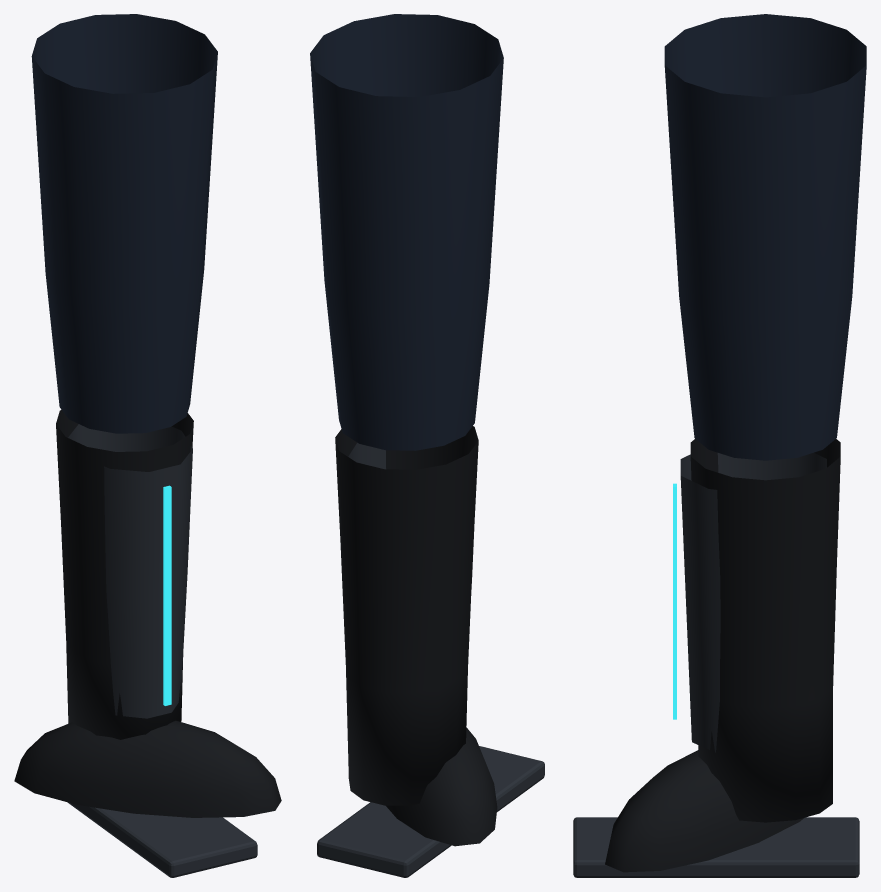
Rendered from fp_leg_neon.glb.
3 views of the same model, side by side, from view 1: azimuth 30°, elevation 25°; view 2: azimuth 150°, elevation 25°; view 3: azimuth 270°, elevation 25° (orthographic). The views are drawn at different scales.
Parts seen in each view (by area): view 1: fp_leg.001; view 2: fp_leg.001; view 3: fp_leg.001.
Boxes of the visible parts, box(x1,y1,x2,y2) form: fp_leg.001: box(14, 14, 281, 877); fp_leg.001: box(310, 14, 544, 877); fp_leg.001: box(573, 14, 866, 877).
Bounding box in the file's own units: 0.2257 × 0.895 × 0.2974.
